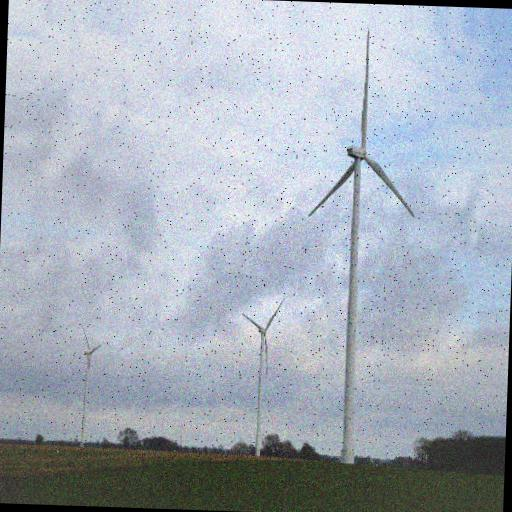wind turbine: (310, 30, 415, 462), (240, 299, 285, 457), (73, 325, 101, 441)
